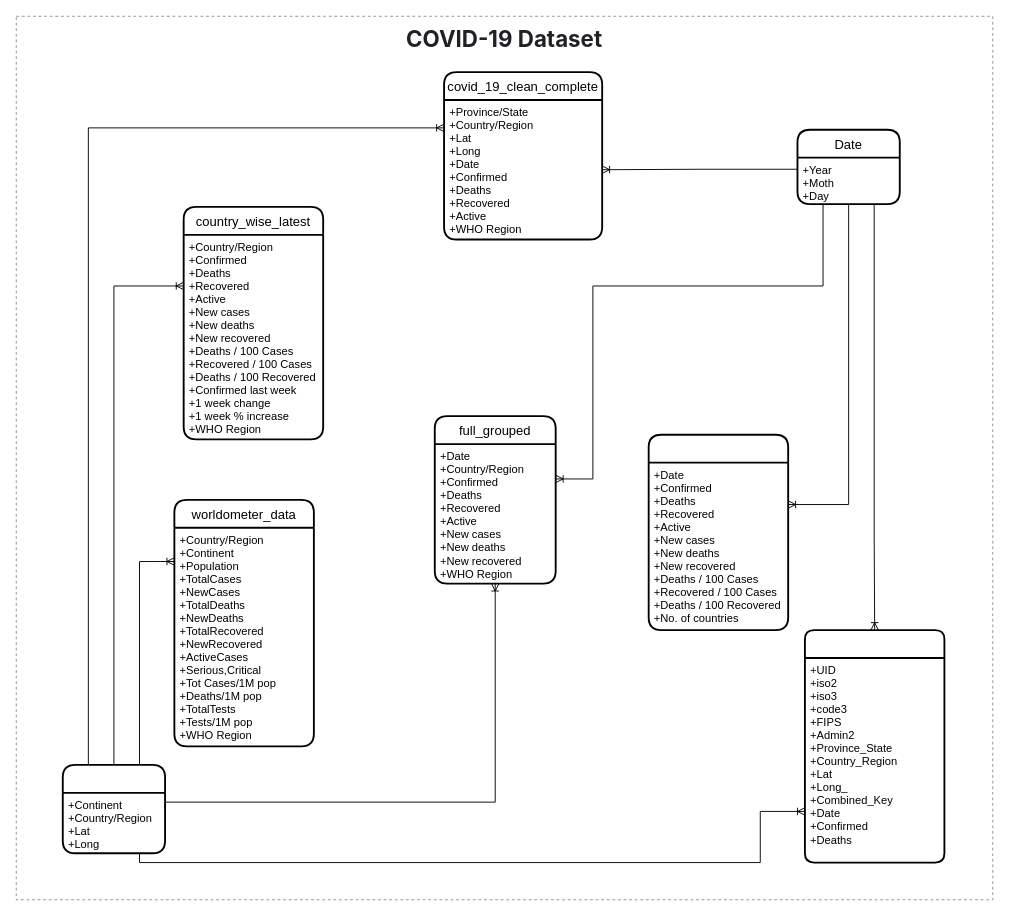
The diagram is 1009 pixels wide and 916 high, and some of its shapes have lost their labels. Here are the shapes that lost their labels. From the top down, the box of each, then its label:
(647, 433, 789, 631): day_wise
(804, 629, 945, 863): usa_county_wise
(61, 764, 166, 854): Place
